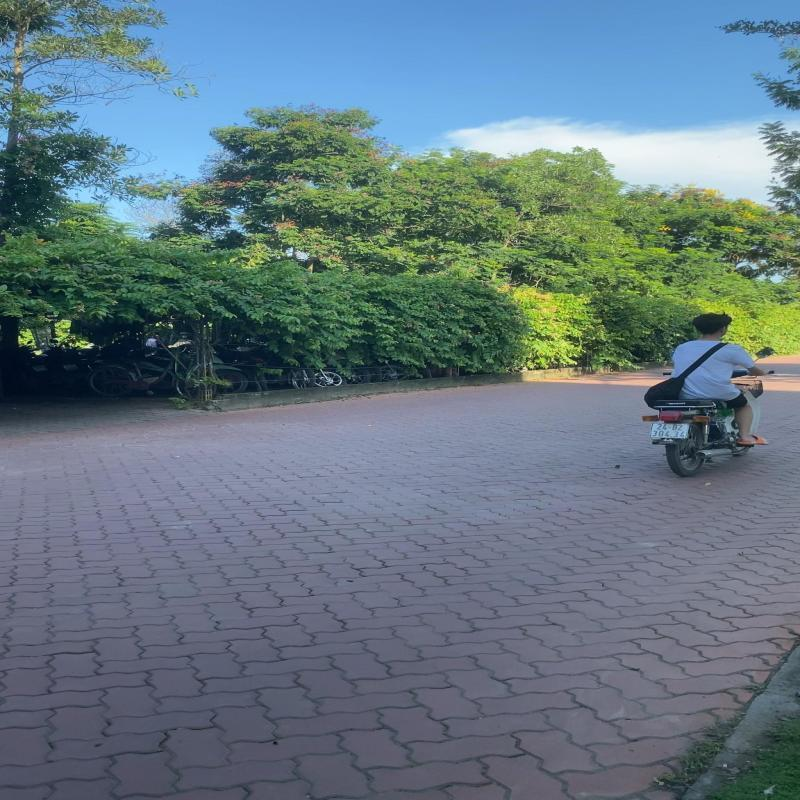licenseplate: (649, 422, 690, 439)
motorcyclist: (635, 308, 780, 480)
nohelmet: (690, 311, 734, 337)
